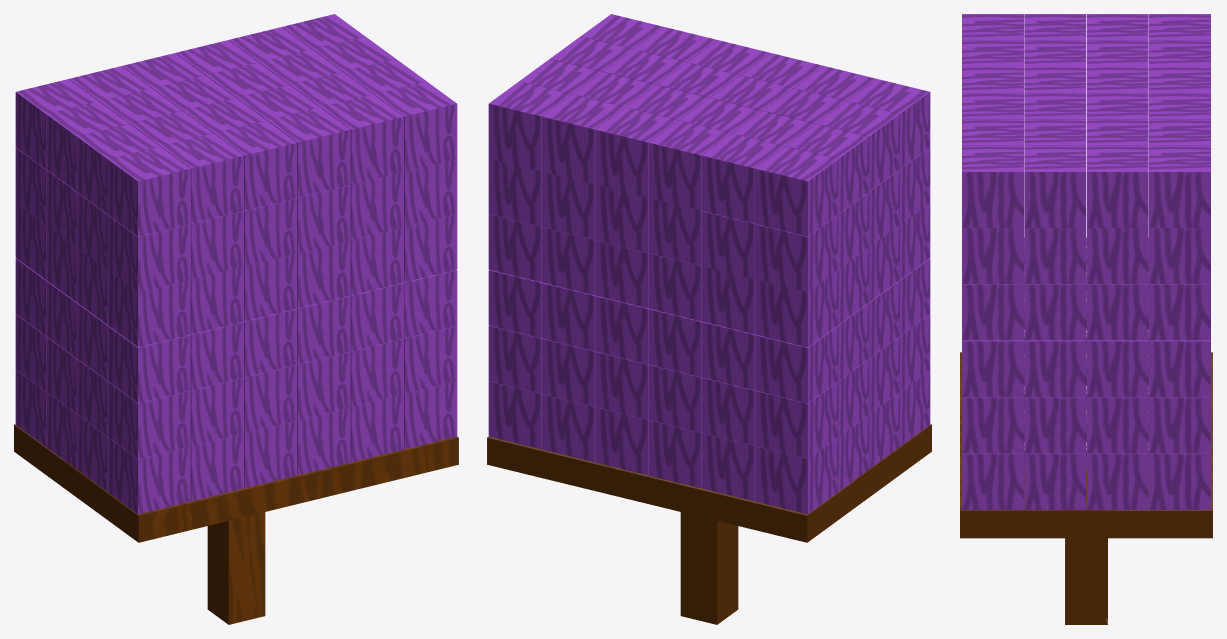
The model's file is Level1-6x.fbx.
3 renders of one model, left to right at view 1: azimuth 30°, elevation 25°; view 2: azimuth 150°, elevation 25°; view 3: azimuth 270°, elevation 25°, orthographic.
Visible parts, largest first — view 1: Cube.001, Cube.073, Cube.019, Cube.010, Cube.064, Cube, Cube.055, Cube.100, Cube.101, Cube.102, Cube.075, Cube.074 (+58 smaller); view 2: Cube.001, Cube.133, Cube.115, Cube.112, Cube.109, Cube.130, Cube.127, Cube.142, Cube.135, Cube.144, Cube.143, Cube.134 (+58 smaller); view 3: Cube.001, Cube.105, Cube.102, Cube.108, Cube.144, Cube.051, Cube.048, Cube.054, Cube.126, Cube.042, Cube.033, Cube.087 (+33 smaller).
Boxes of the visible parts, x1=… form: Cube.001: x1=14, y1=424, x2=458, y2=624; Cube.073: x1=107, y1=146, x2=190, y2=236; Cube.019: x1=107, y1=325, x2=190, y2=403; Cube.010: x1=107, y1=381, x2=190, y2=458; Cube.064: x1=107, y1=215, x2=190, y2=291; Cube: x1=107, y1=437, x2=190, y2=514; Cube.055: x1=107, y1=270, x2=190, y2=347; Cube.100: x1=267, y1=107, x2=350, y2=197; Cube.101: x1=321, y1=94, x2=403, y2=184; Cube.102: x1=374, y1=81, x2=457, y2=171; Cube.075: x1=214, y1=120, x2=297, y2=210; Cube.074: x1=161, y1=133, x2=243, y2=223; Cube.001: x1=487, y1=424, x2=931, y2=624; Cube.133: x1=755, y1=146, x2=838, y2=236; Cube.115: x1=755, y1=325, x2=838, y2=403; Cube.112: x1=755, y1=381, x2=838, y2=458; Cube.109: x1=755, y1=437, x2=838, y2=514; Cube.130: x1=755, y1=215, x2=838, y2=291; Cube.127: x1=755, y1=270, x2=838, y2=347; Cube.142: x1=595, y1=107, x2=678, y2=197; Cube.135: x1=648, y1=120, x2=731, y2=210; Cube.144: x1=488, y1=81, x2=571, y2=171; Cube.143: x1=542, y1=94, x2=624, y2=184; Cube.134: x1=702, y1=133, x2=784, y2=223; Cube.001: x1=960, y1=352, x2=1212, y2=624; Cube.105: x1=1024, y1=146, x2=1086, y2=227; Cube.102: x1=962, y1=146, x2=1023, y2=227; Cube.108: x1=1087, y1=146, x2=1148, y2=227; Cube.144: x1=1149, y1=146, x2=1210, y2=227; Cube.051: x1=1024, y1=340, x2=1086, y2=397; Cube.048: x1=962, y1=340, x2=1023, y2=397; Cube.054: x1=1087, y1=340, x2=1148, y2=397; Cube.126: x1=1149, y1=340, x2=1210, y2=397; Cube.042: x1=1024, y1=397, x2=1086, y2=453; Cube.033: x1=1024, y1=453, x2=1086, y2=509; Cube.087: x1=1024, y1=284, x2=1086, y2=340.
Bounding box in the file's own units: 1908 × 2933 × 1286.
